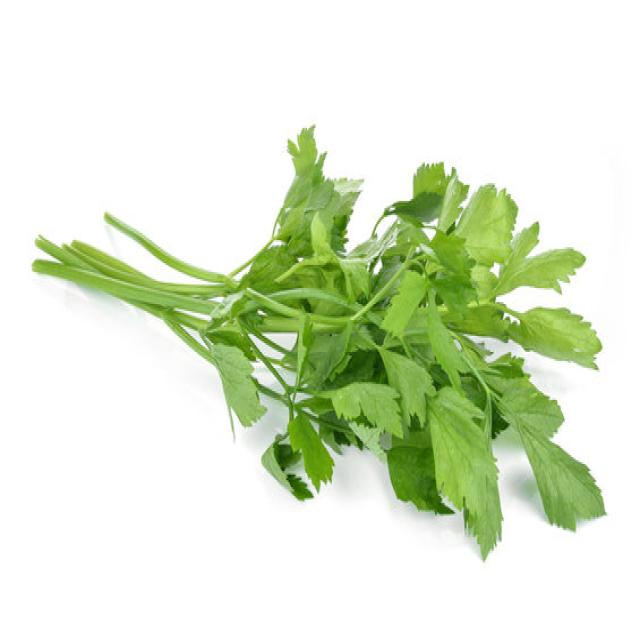Coriander Leaves: (39, 112, 615, 549)
